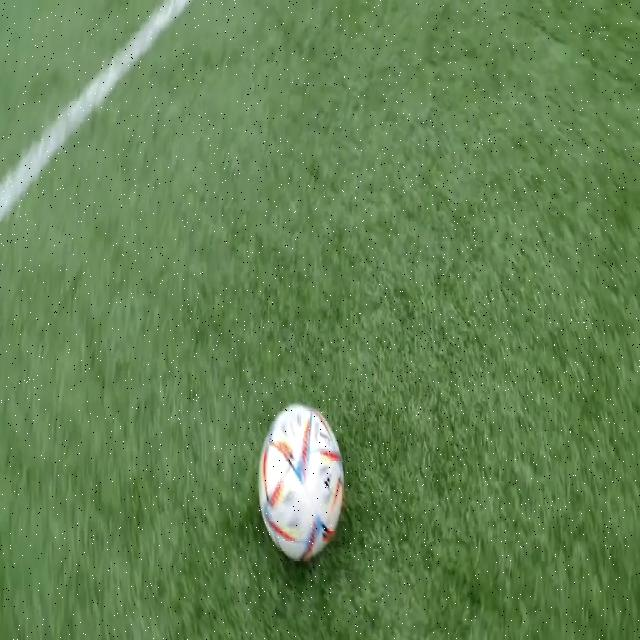ball: (259, 404, 343, 560)
